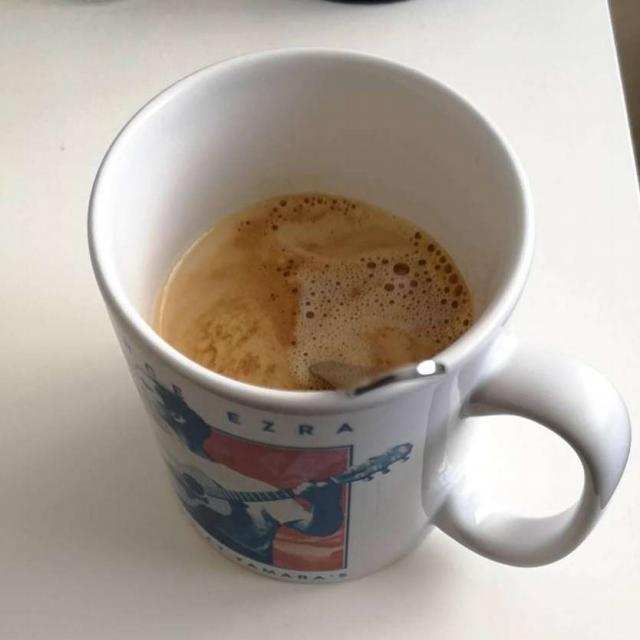coffee: (158, 192, 472, 389)
